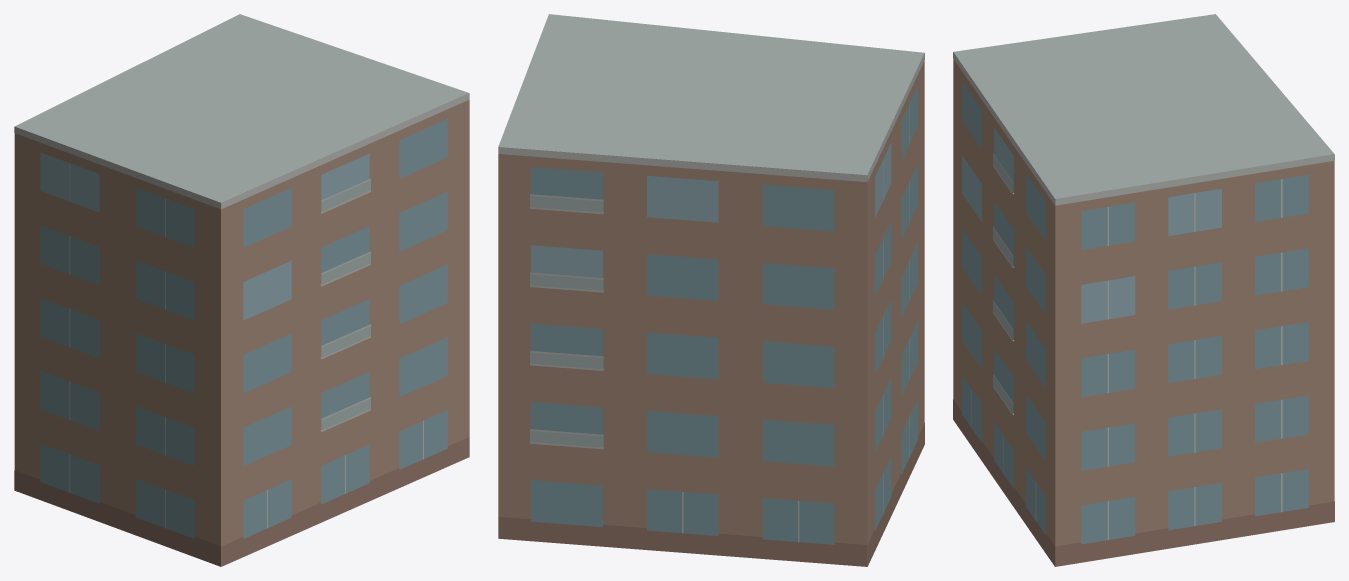
Rendered from survey-upis-32945517.glb.
The picture shows the model from 3 angles, left to right: view 1: azimuth 30°, elevation 25°; view 2: azimuth 150°, elevation 25°; view 3: azimuth 270°, elevation 25°; orthographic projection. The views are drawn at different scales.
Visible parts, largest first — view 1: survey-upis-32945517.tmp; view 2: survey-upis-32945517.tmp; view 3: survey-upis-32945517.tmp.
Boxes of the visible parts, x1,y1,x2,y2 form: survey-upis-32945517.tmp: (14, 14, 469, 566); survey-upis-32945517.tmp: (498, 14, 924, 566); survey-upis-32945517.tmp: (953, 14, 1334, 566).
Size of the model in its own units: 14.77 by 13.67 by 12.87.
